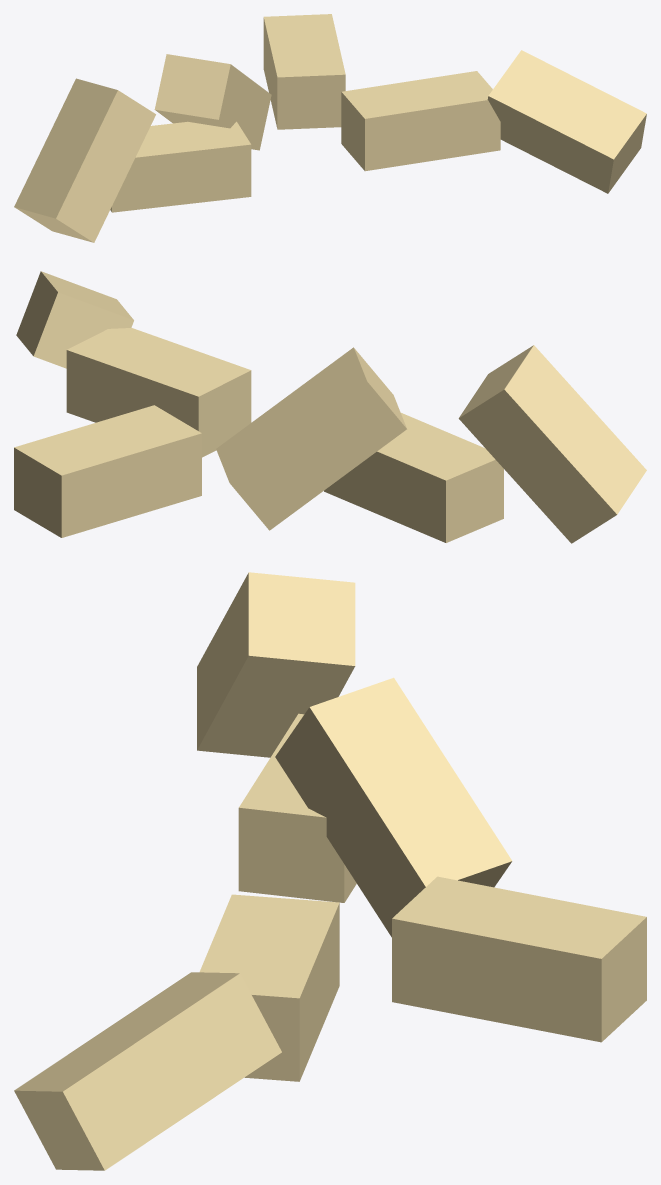
3 views of the same model, one above another, from view 1: azimuth 30°, elevation 25°; view 2: azimuth 150°, elevation 25°; view 3: azimuth 270°, elevation 25° (orthographic). The views are drawn at different scales.
Visible parts, largest first — view 1: Object23; view 2: Object23; view 3: Object23.
Boxes of the visible parts, box(x1,y1,x2,y2) form: Object23: box(14, 14, 646, 242); Object23: box(14, 271, 646, 543); Object23: box(14, 572, 646, 1170).
Bounding box in the file's own units: 133 × 37.08 × 80.98.
